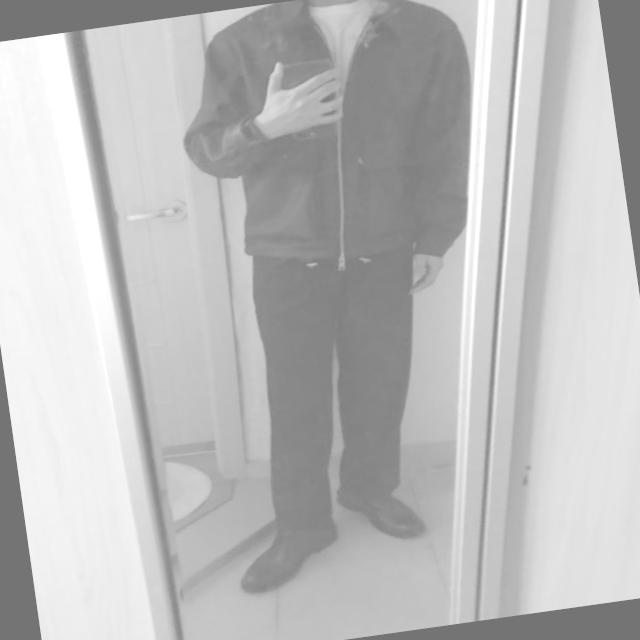jacket: (161, 0, 490, 289)
slacks: (242, 236, 452, 542)
